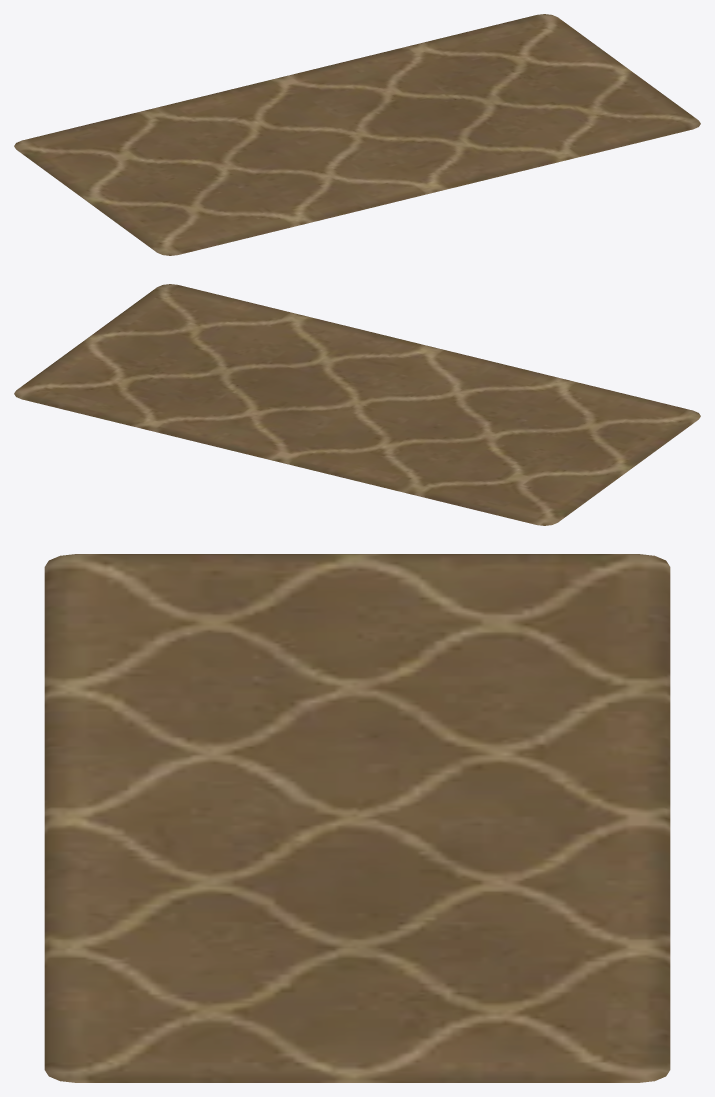
3 renders of one model, top to bottom at view 1: azimuth 30°, elevation 25°; view 2: azimuth 150°, elevation 25°; view 3: azimuth 270°, elevation 25°, orthographic. The views are drawn at different scales.
Bounding box in the file's own units: 20 × 0.0305 × 10.
1 material, 1 textured.
